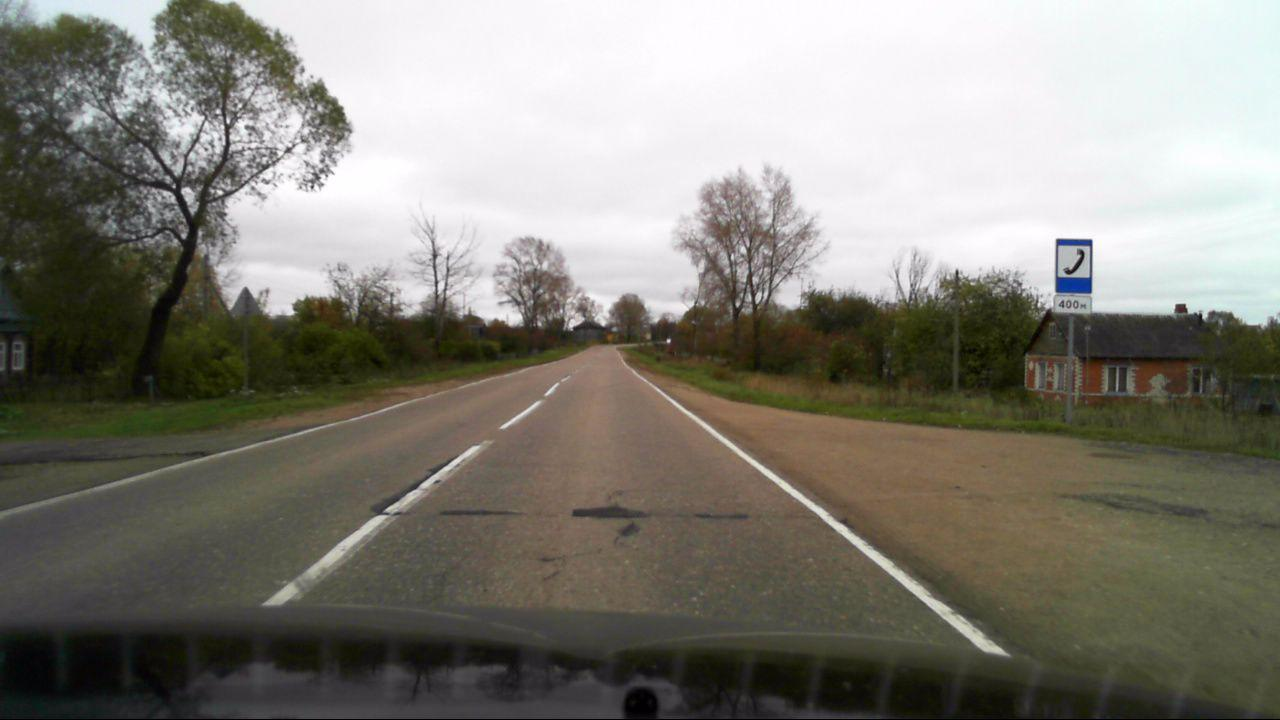7_6: (1053, 237, 1093, 294)
8_1_1: (1053, 295, 1094, 314)
